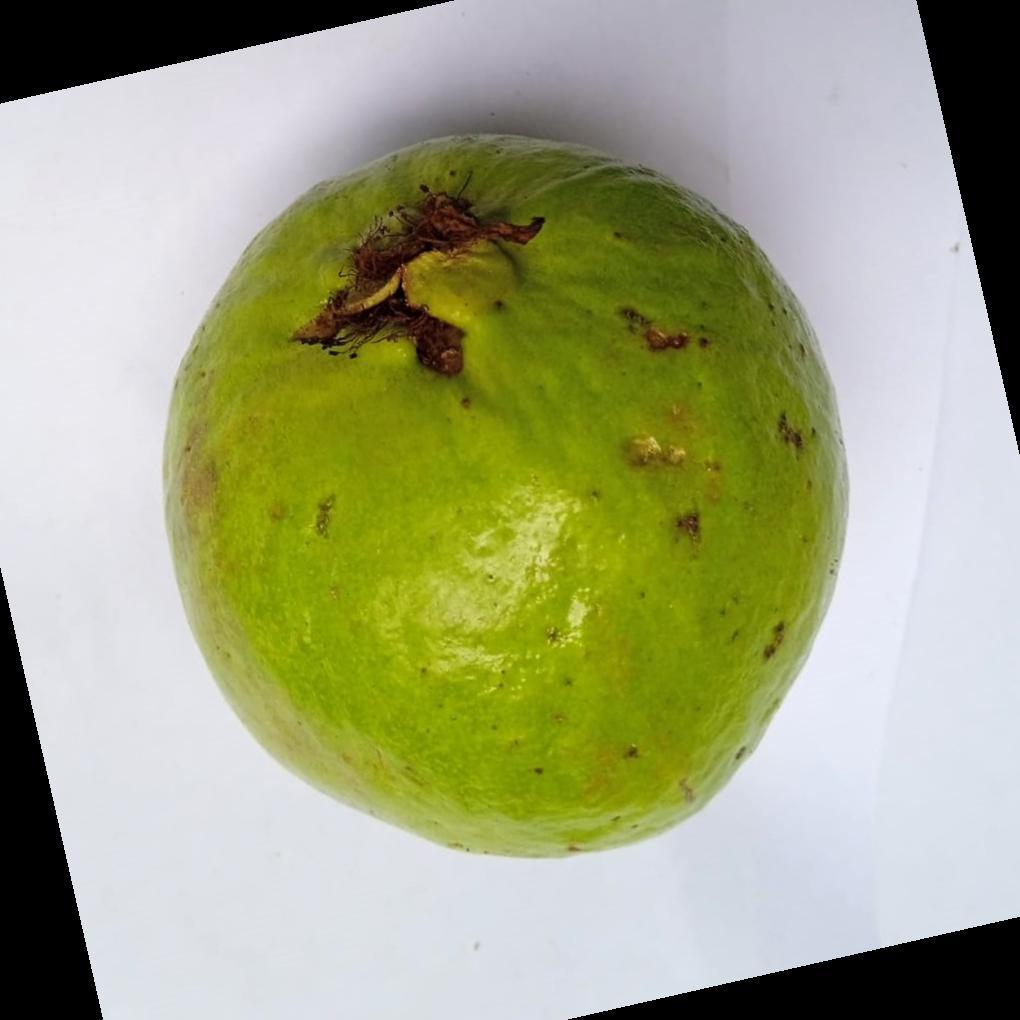FreshGuava: (160, 135, 851, 865)
